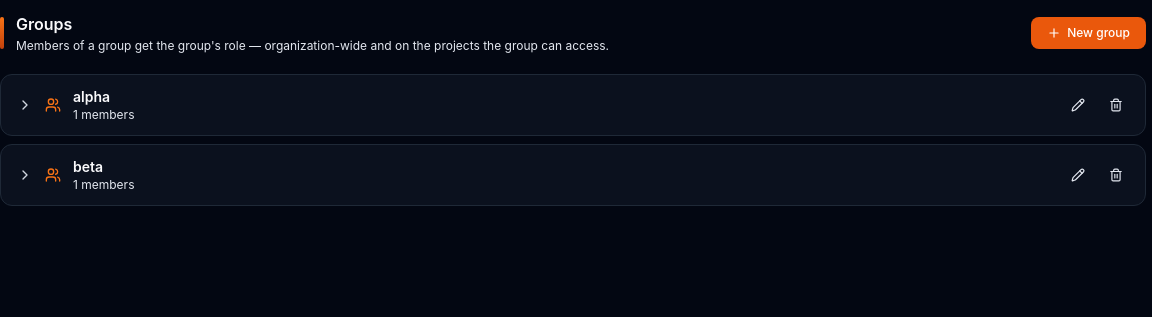
Test: GroupsManager: answers arriving late › shows the members of the group opened last
Click the button "alpha 1 members" at (92, 96), box [17,87,1053,123]
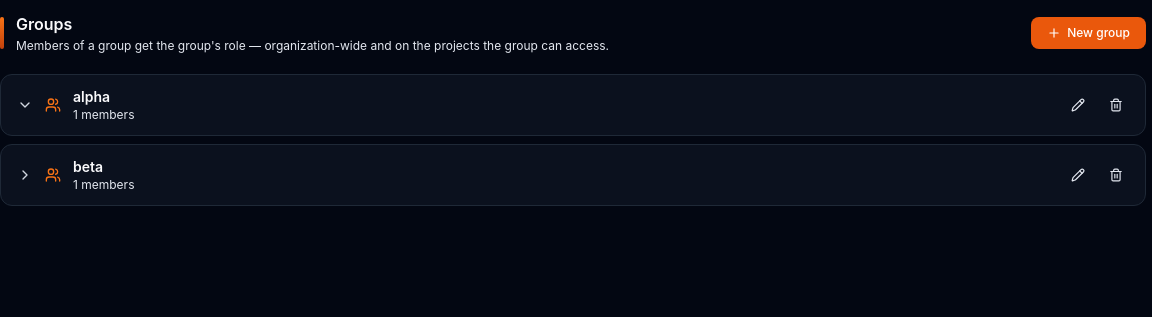
Click the button "beta 1 members" at (88, 166), box [17,157,1053,193]
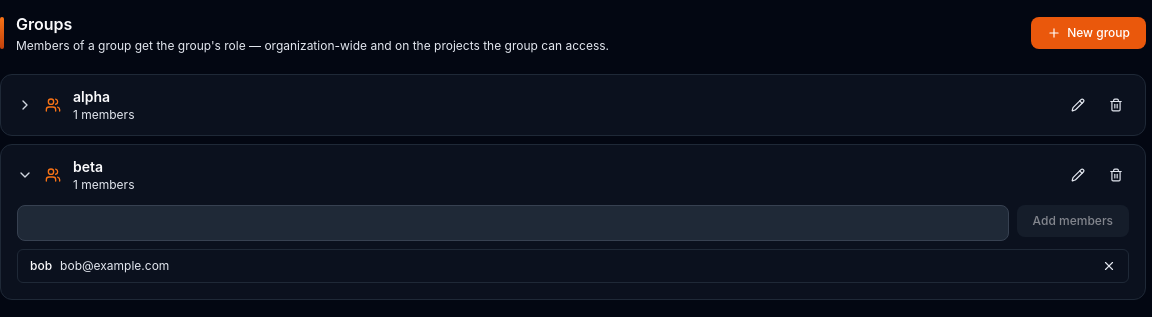
Now the element showing "beta 1 members Add members bob bob@example.com" is shown, box [0,144,1146,300]
